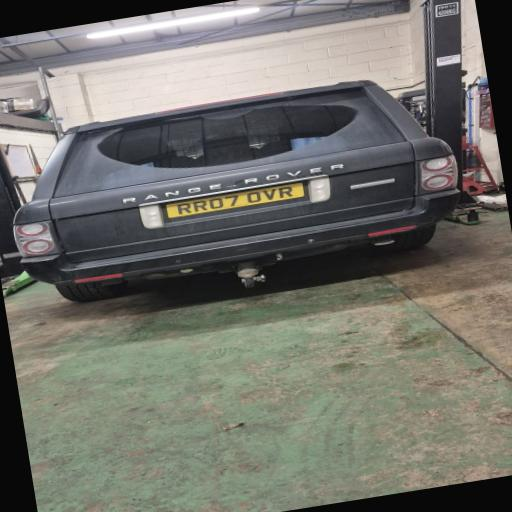numberplates: (167, 183, 305, 218)
